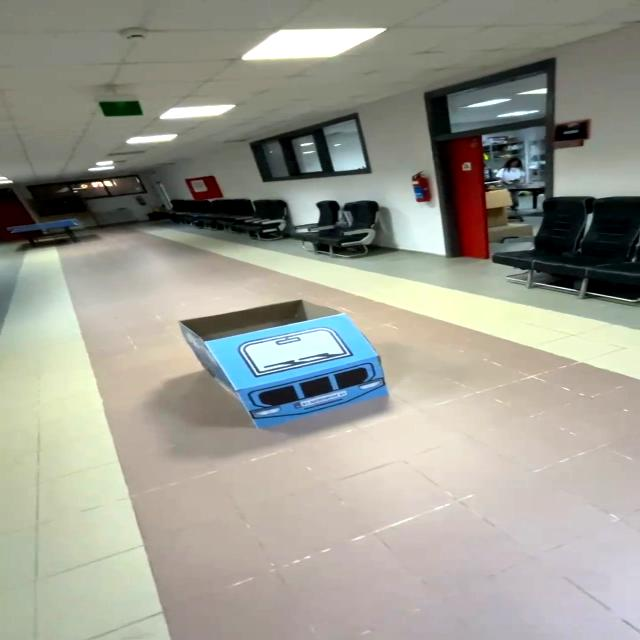blue_car: (135, 282, 400, 452)
